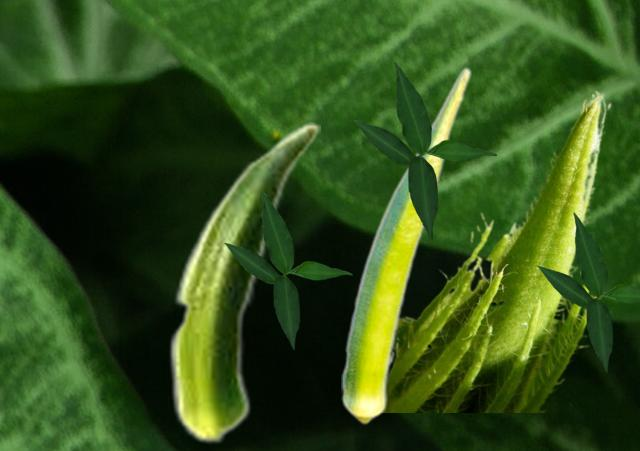okra: (385, 89, 611, 411), (168, 122, 319, 444), (341, 66, 471, 424)
